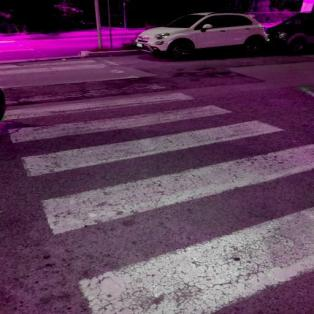Paso de Cebra: (2, 101, 297, 182)
